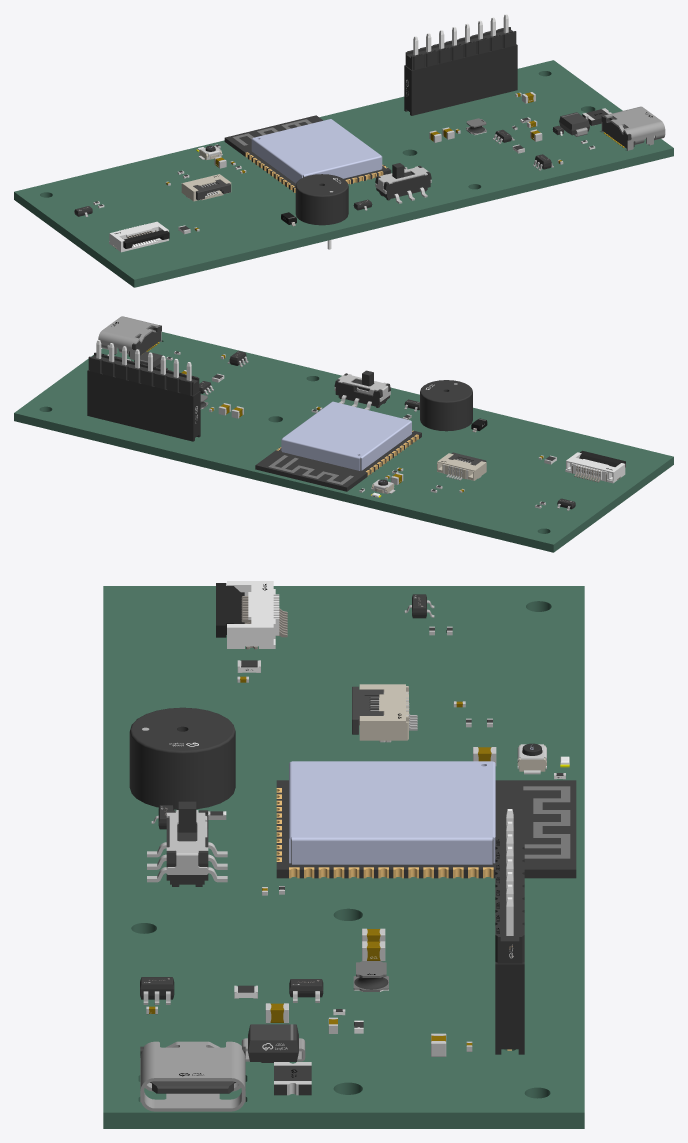
Rendered from Project-1.glb.
3 views of the same model, one above another, from view 1: azimuth 30°, elevation 25°; view 2: azimuth 150°, elevation 25°; view 3: azimuth 270°, elevation 25° (orthographic). The views are drawn at different scales.
Parts seen in each view (by area): view 1: =>[0:1:1:36], U1, P1, P2, Bz1, USB1, SW2, FPC1, FPC2, D1; view 2: =>[0:1:1:36], U1, P1, P2, Bz1, USB1, SW2, FPC1, FPC2; view 3: =>[0:1:1:36], U1, Bz1, USB1, FPC1, SW2, P2, FPC2, P1, D1, F1, L1 (+2 smaller).
Part boxes in pixels (x1=…): =>[0:1:1:36]: x1=14, y1=60, x2=673, y2=287; U1: x1=224, y1=115, x2=391, y2=192; P1: x1=404, y1=44, x2=517, y2=115; P2: x1=405, y1=14, x2=516, y2=69; Bz1: x1=295, y1=174, x2=348, y2=249; USB1: x1=601, y1=106, x2=665, y2=150; SW2: x1=375, y1=163, x2=431, y2=203; FPC1: x1=109, y1=221, x2=169, y2=252; FPC2: x1=181, y1=174, x2=231, y2=201; D1: x1=559, y1=112, x2=589, y2=136; =>[0:1:1:36]: x1=14, y1=332, x2=673, y2=552; U1: x1=255, y1=401, x2=421, y2=491; P1: x1=87, y1=370, x2=200, y2=441; P2: x1=88, y1=340, x2=199, y2=395; Bz1: x1=420, y1=380, x2=472, y2=431; USB1: x1=98, y1=316, x2=161, y2=359; SW2: x1=334, y1=370, x2=390, y2=410; FPC1: x1=565, y1=450, x2=625, y2=483; FPC2: x1=437, y1=452, x2=486, y2=480; =>[0:1:1:36]: x1=103, y1=586, x2=584, y2=1128; U1: x1=276, y1=761, x2=576, y2=878; Bz1: x1=129, y1=707, x2=235, y2=809; USB1: x1=140, y1=1041, x2=245, y2=1111; FPC1: x1=216, y1=581, x2=287, y2=649; SW2: x1=147, y1=801, x2=227, y2=886; P2: x1=495, y1=809, x2=524, y2=963; FPC2: x1=352, y1=684, x2=417, y2=742; P1: x1=495, y1=962, x2=524, y2=1054; D1: x1=241, y1=1024, x2=305, y2=1062; F1: x1=274, y1=1062, x2=311, y2=1095; L1: x1=353, y1=961, x2=388, y2=991.
Bounding box in the file's own units: 0.1062 × 0.0195 × 0.041.
